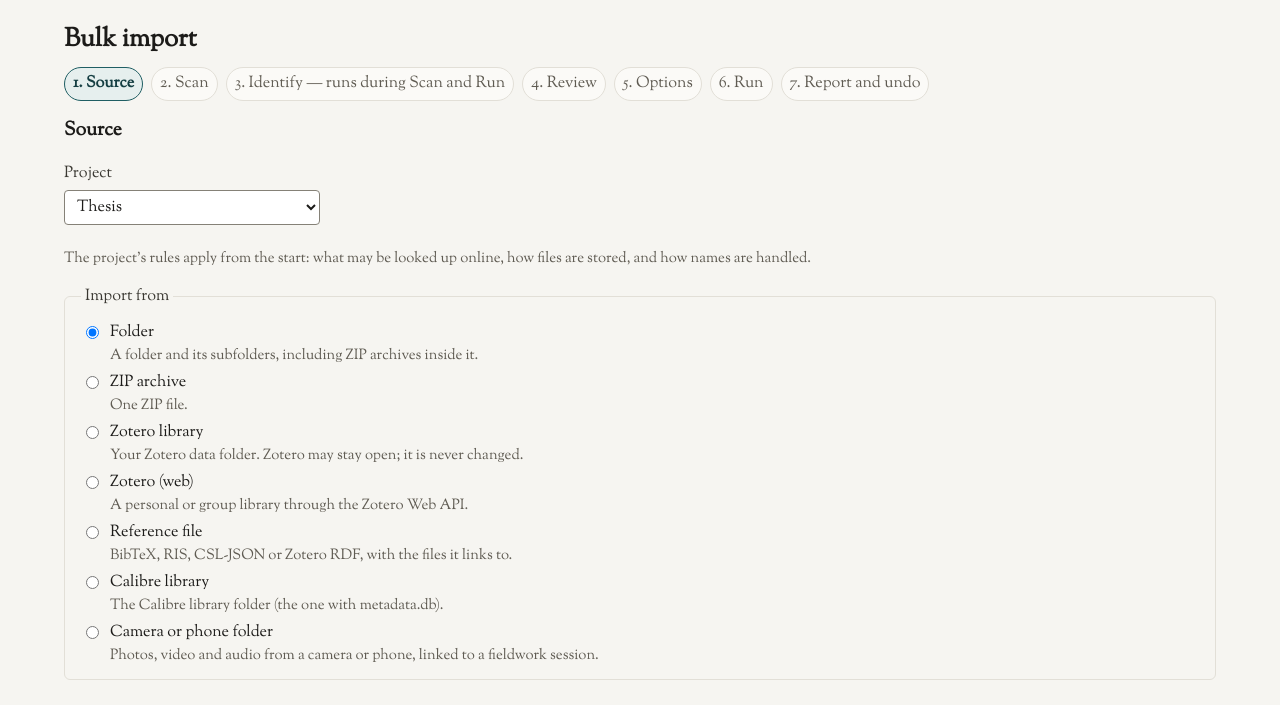
Test: the import wizard's path fields in the desktop shell (D12) › ZIP archive: the picker fills “ZIP file path”, and Scan sends that path
Click the radio button labelled "ZIP archive": (92, 382) [86,376,99,389]
(page scrolled)
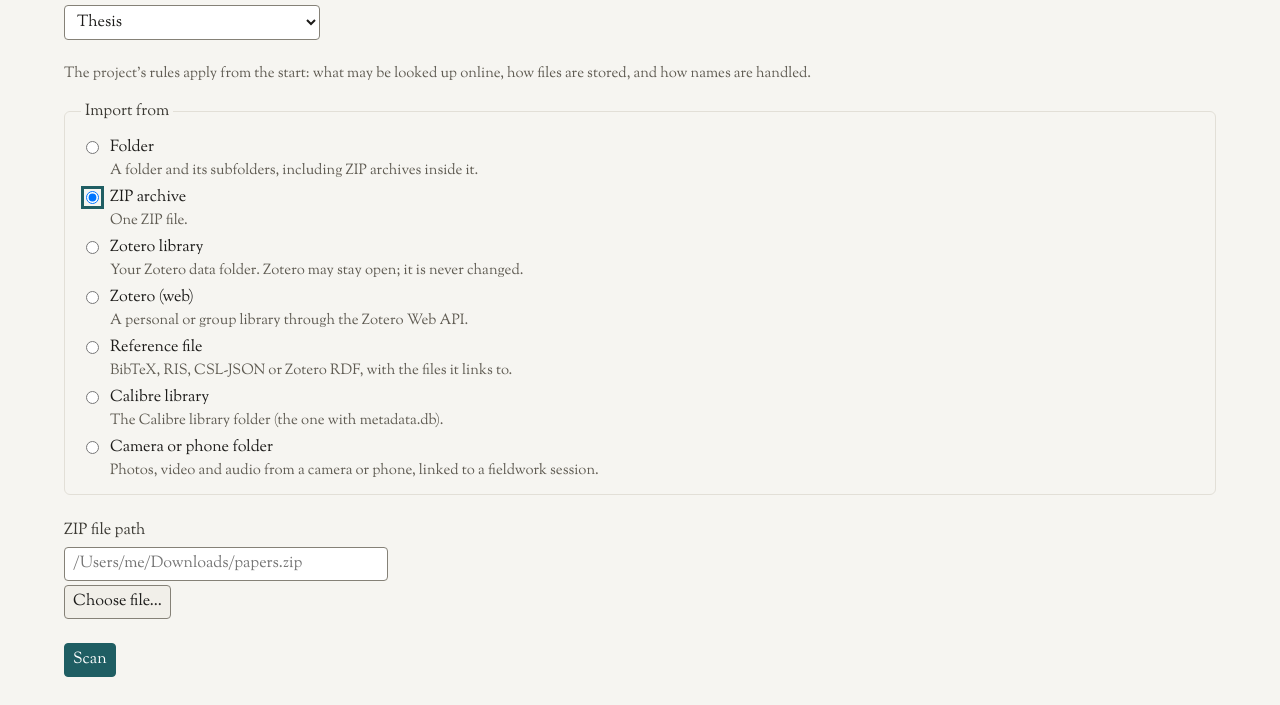
Click the button "Choose file…": (117, 602) [64,585,171,619]
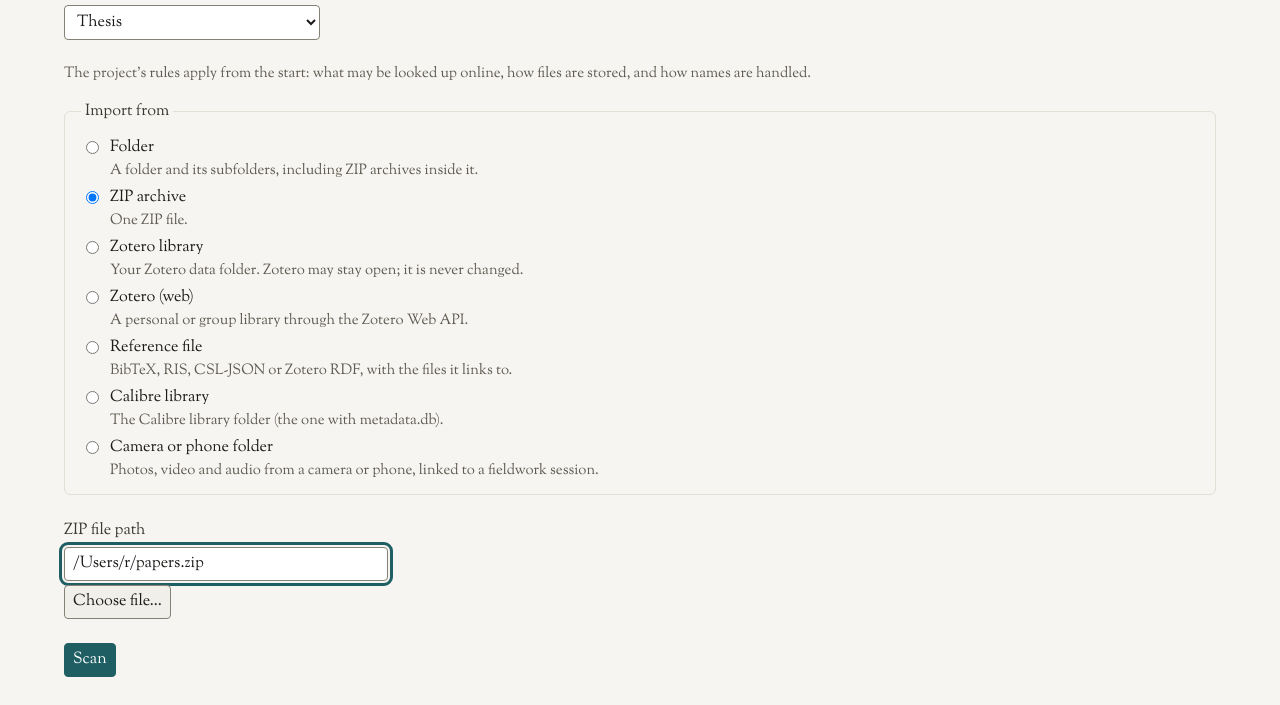
Check: the field labelled "ZIP file path" holds "/Users/r/papers.zip", box [64,547,388,581]
Click the button "Scan": (90, 660) [64,643,116,677]
(page scrolled)
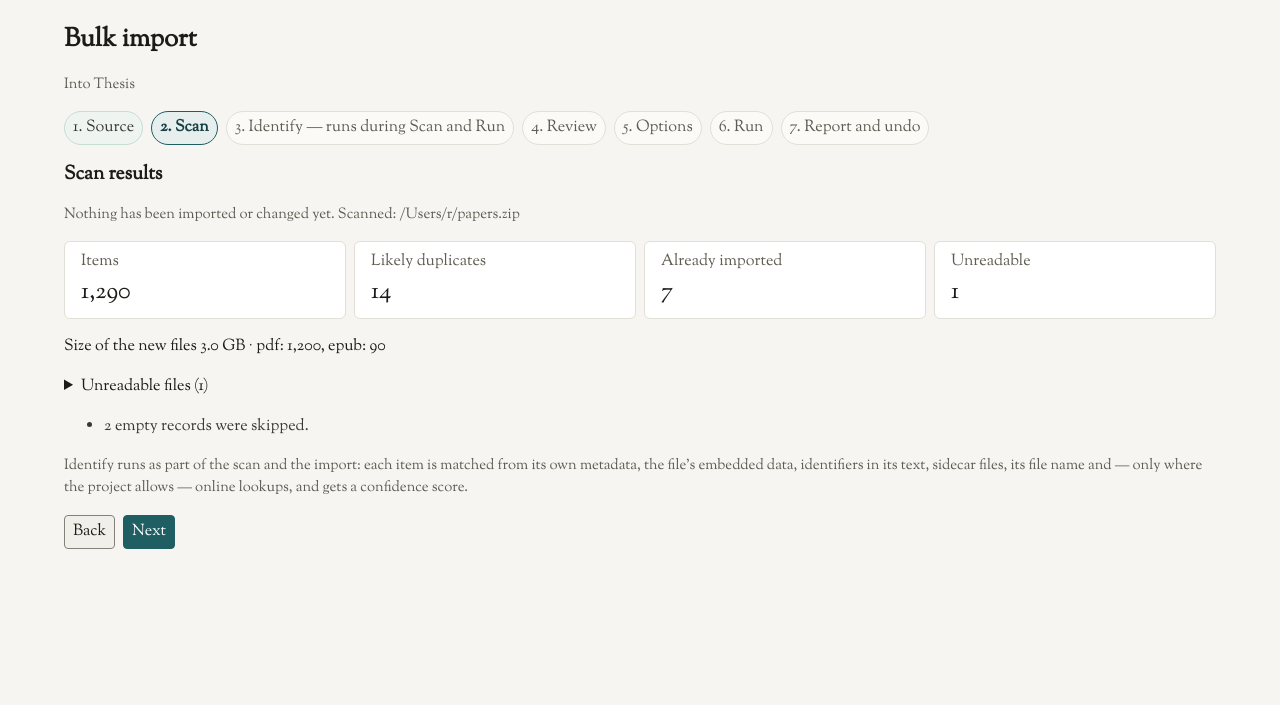
Check: the heading "Scan results" is shown, box [64,161,162,188]
